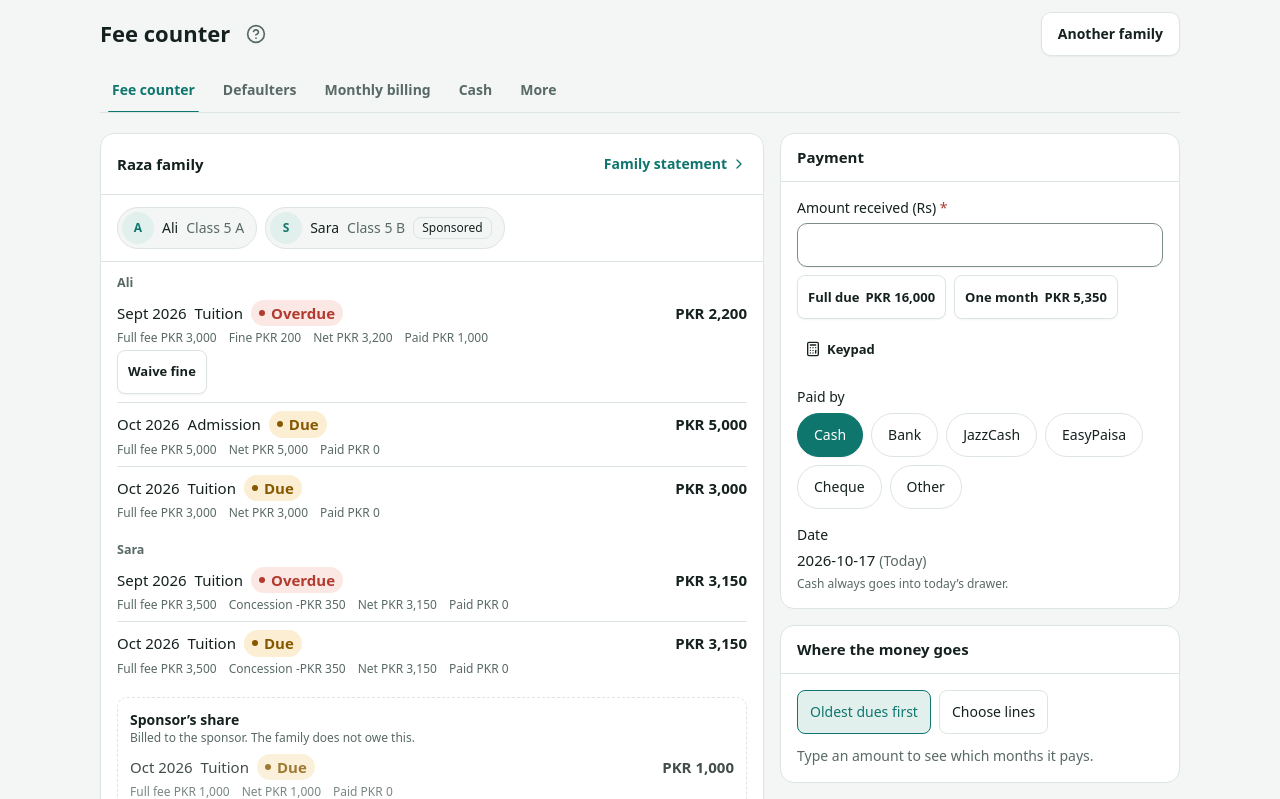
Test case: fee counter › switching back to cash drops the yesterday option
The width and height of the screenshot is (1280, 799).
Type "1000" into the field with id "counter-amount" at (980, 245), box [797,223,1163,267]
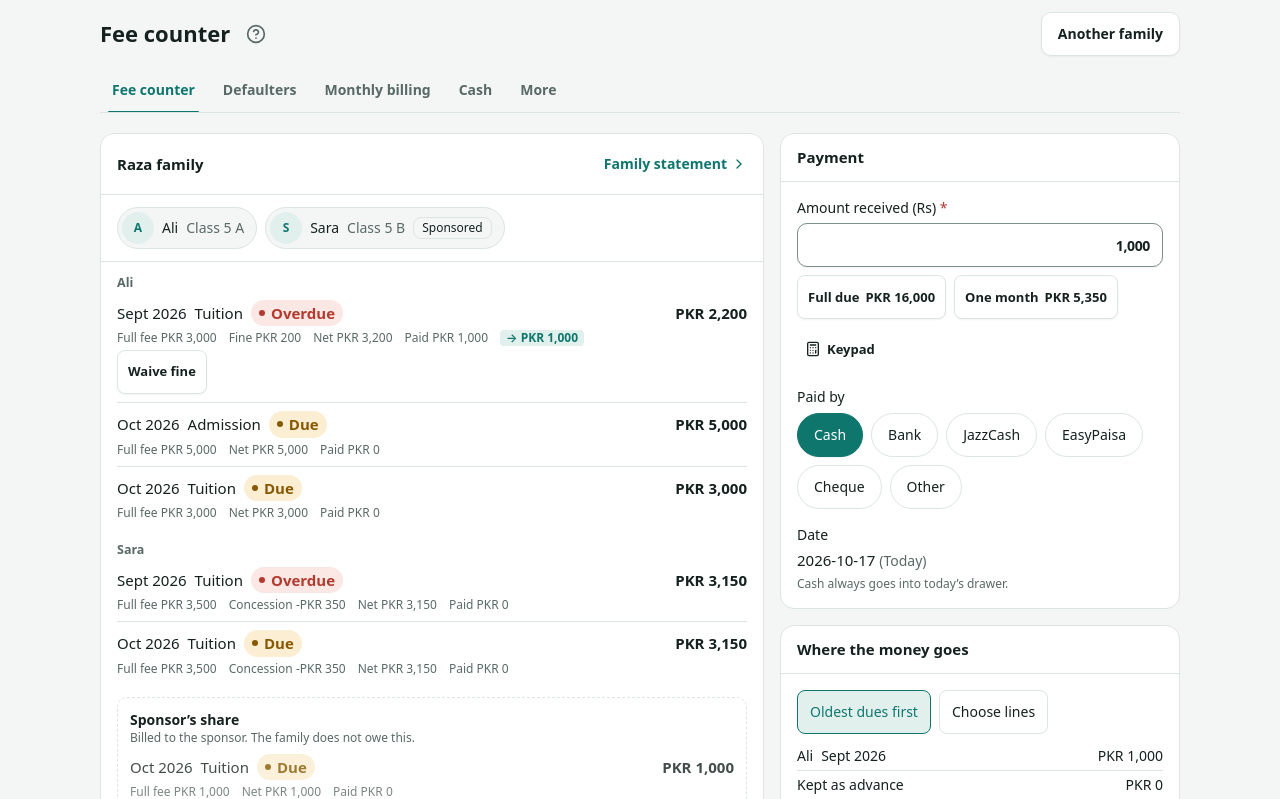
Click the button with id "method-bank" at (905, 435), box [871,413,938,457]
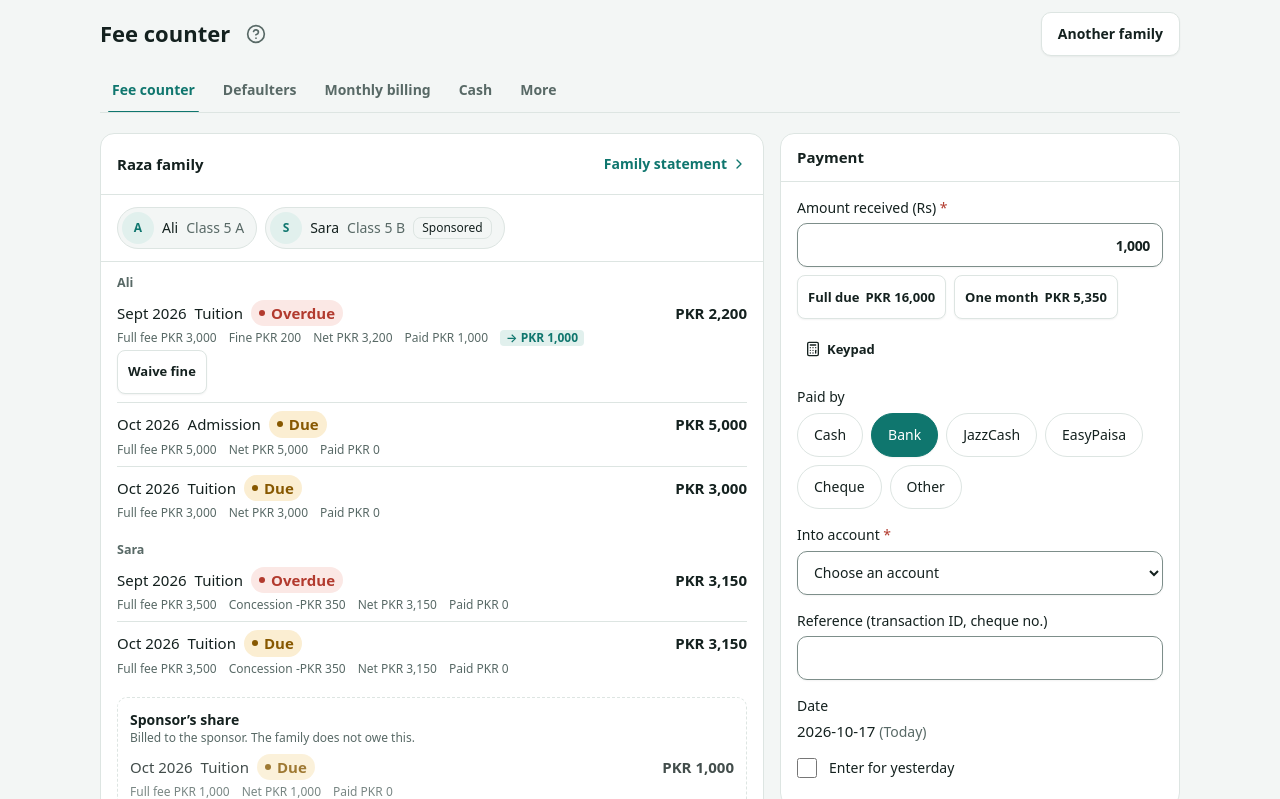
Click the checkbox with id "counter-yesterday" at (807, 768), box [797,758,817,778]
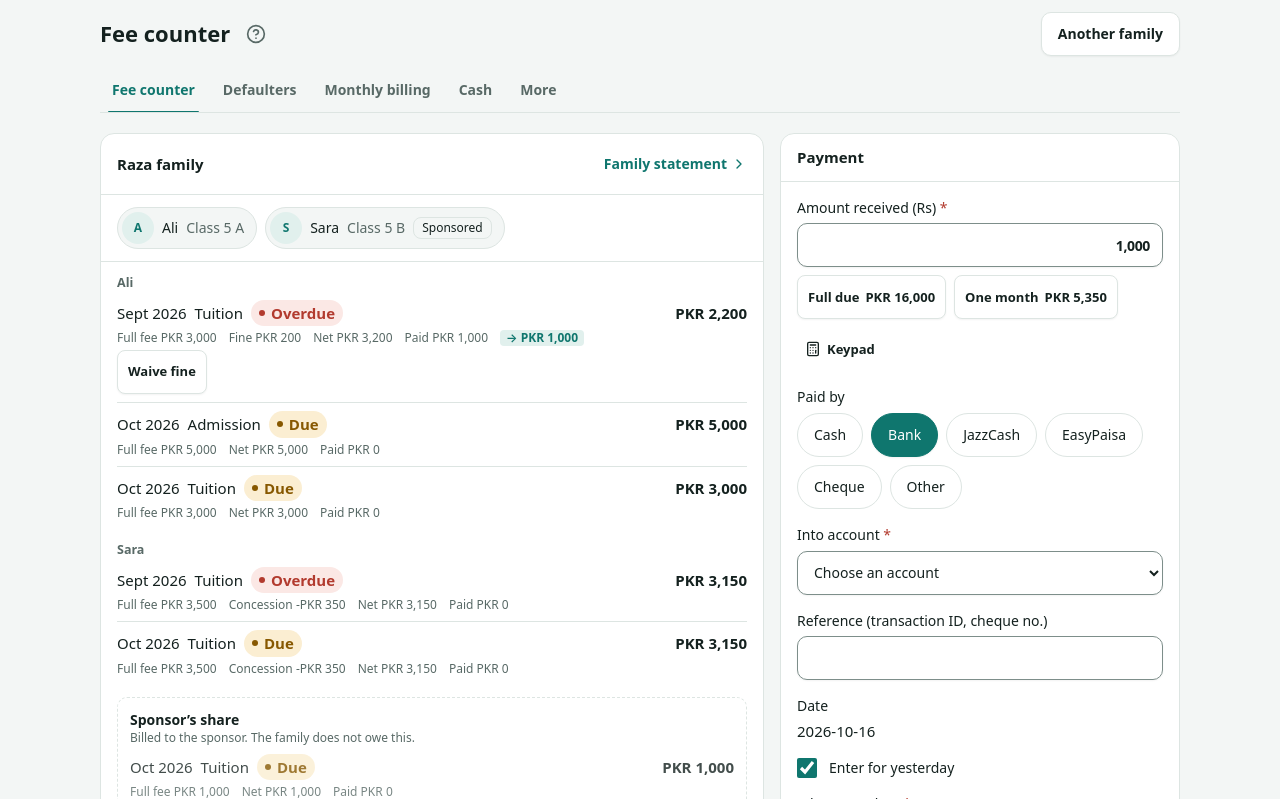
Click the button with id "method-cash" at (830, 435), box [797,413,863,457]
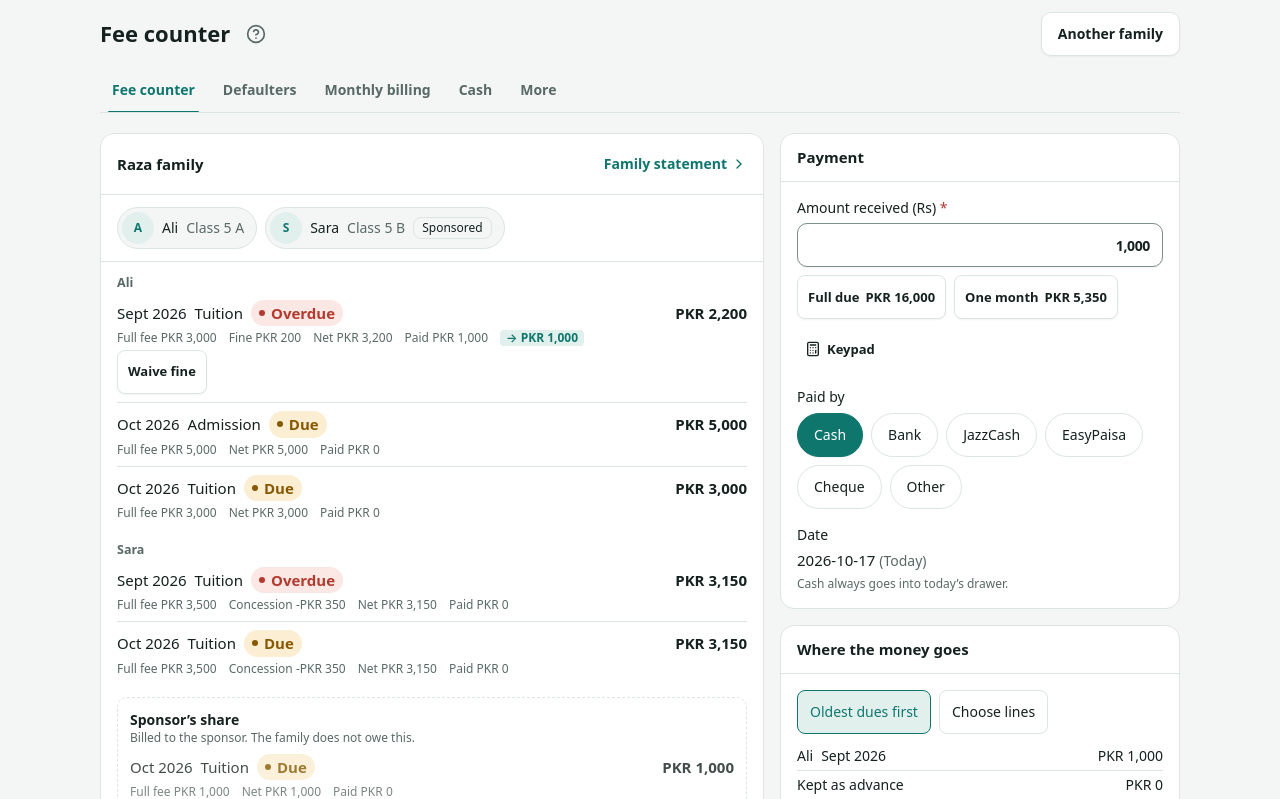
Expected: the checkbox with id "counter-yesterday" is gone
